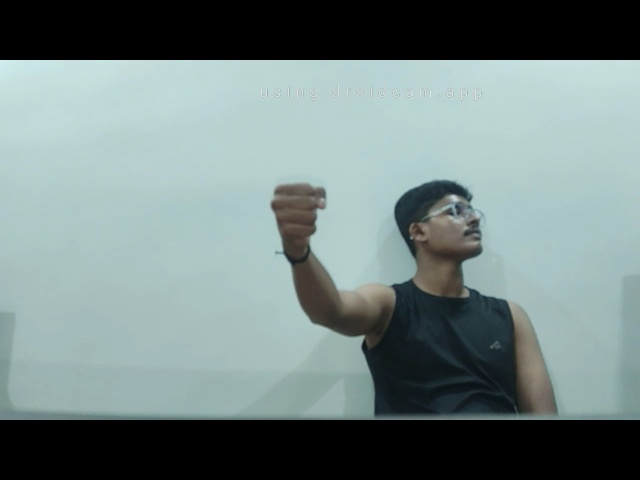yes: (266, 179, 333, 254)
